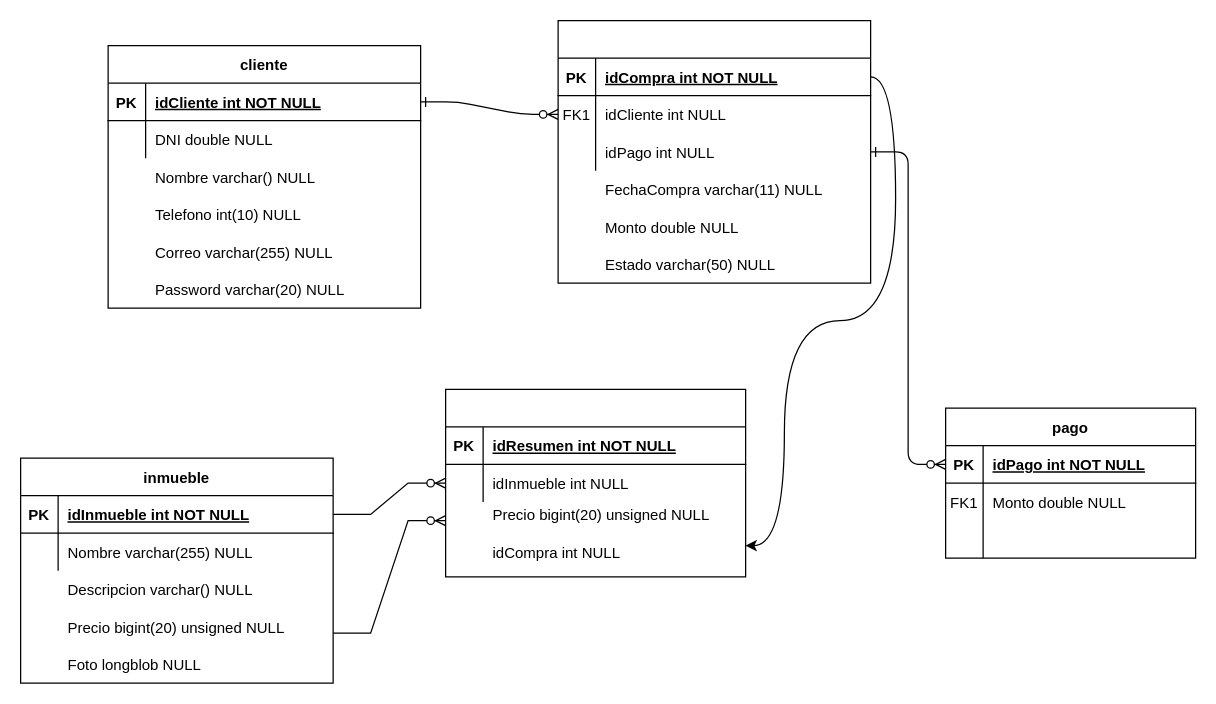
Some shapes in this 1216 by 704 pixel diagram are drawn without their labels. Each missing label, with the box of its shape:
compras: (557, 19, 871, 283)
resumen_compra: (444, 388, 746, 577)
